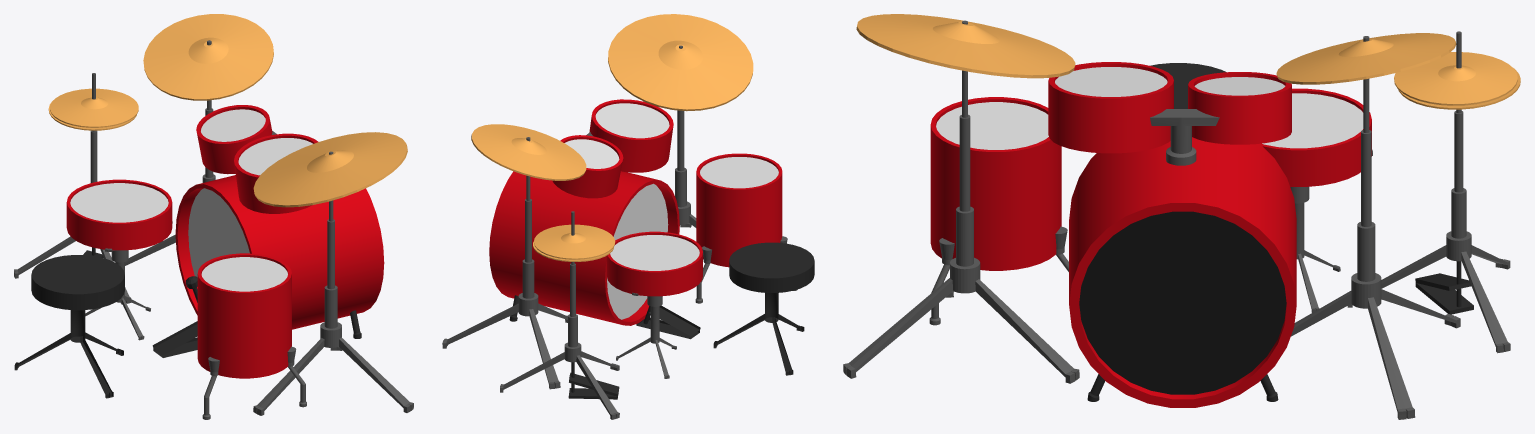
Rendered from drumkit export test.glb.
3 views of the same model, side by side, from view 1: azimuth 30°, elevation 25°; view 2: azimuth 150°, elevation 25°; view 3: azimuth 270°, elevation 25° (orthographic). The views are drawn at different scales.
Parts seen in each view (by area): view 1: Cylinder, Cylinder.004, Circle, Circle.001, Cylinder.002, Cylinder.014, Cylinder.012, Cylinder.009, Cylinder.010, Circle.002, Cylinder.013, Plane.002 (+5 smaller); view 2: Cylinder, Circle.001, Cylinder.004, Cylinder.002, Cylinder.010, Circle, Cylinder.014, Cylinder.011, Cylinder.009, Circle.002, Cylinder.015, Cylinder.012 (+4 smaller); view 3: Cylinder, Cylinder.004, Cylinder.010, Circle.001, Cylinder.002, Cylinder.012, Cylinder.009, Cylinder.011, Circle, Circle.002, Cylinder.015, Cylinder.001 (+4 smaller).
Boxes of the visible parts, x1,y1,x2,y2 form: Cylinder: (175, 175, 384, 329); Cylinder.004: (197, 253, 291, 378); Circle: (143, 14, 273, 100); Circle.001: (253, 132, 407, 207); Cylinder.002: (66, 179, 172, 250); Cylinder.014: (31, 255, 124, 310); Cylinder.012: (253, 151, 413, 415); Cylinder.009: (196, 105, 272, 174); Cylinder.010: (234, 133, 318, 213); Circle.002: (50, 88, 138, 127); Cylinder.013: (14, 310, 123, 398); Plane.002: (152, 276, 197, 357); Cylinder: (489, 171, 679, 325); Circle.001: (608, 14, 753, 111); Cylinder.004: (696, 153, 782, 267); Cylinder.002: (606, 231, 702, 296); Cylinder.010: (589, 99, 673, 172); Circle: (471, 124, 586, 180); Cylinder.014: (729, 242, 814, 292); Cylinder.011: (442, 137, 567, 389); Cylinder.009: (552, 135, 623, 198); Circle.002: (534, 224, 615, 259); Cylinder.015: (500, 211, 619, 419); Cylinder.012: (675, 45, 696, 227); Cylinder: (1069, 137, 1296, 407); Cylinder.004: (930, 97, 1061, 270); Cylinder.010: (1048, 62, 1173, 153); Circle.001: (856, 14, 1075, 78); Cylinder.002: (1260, 88, 1371, 186); Cylinder.012: (843, 20, 1079, 383); Cylinder.009: (1188, 72, 1291, 144); Cylinder.011: (1291, 36, 1460, 419); Circle: (1276, 33, 1456, 84); Circle.002: (1394, 52, 1517, 105); Cylinder.015: (1347, 31, 1510, 353); Cylinder.001: (1150, 109, 1219, 165).
Bounding box in the file's own units: 1.87 × 1.34 × 2.45.
